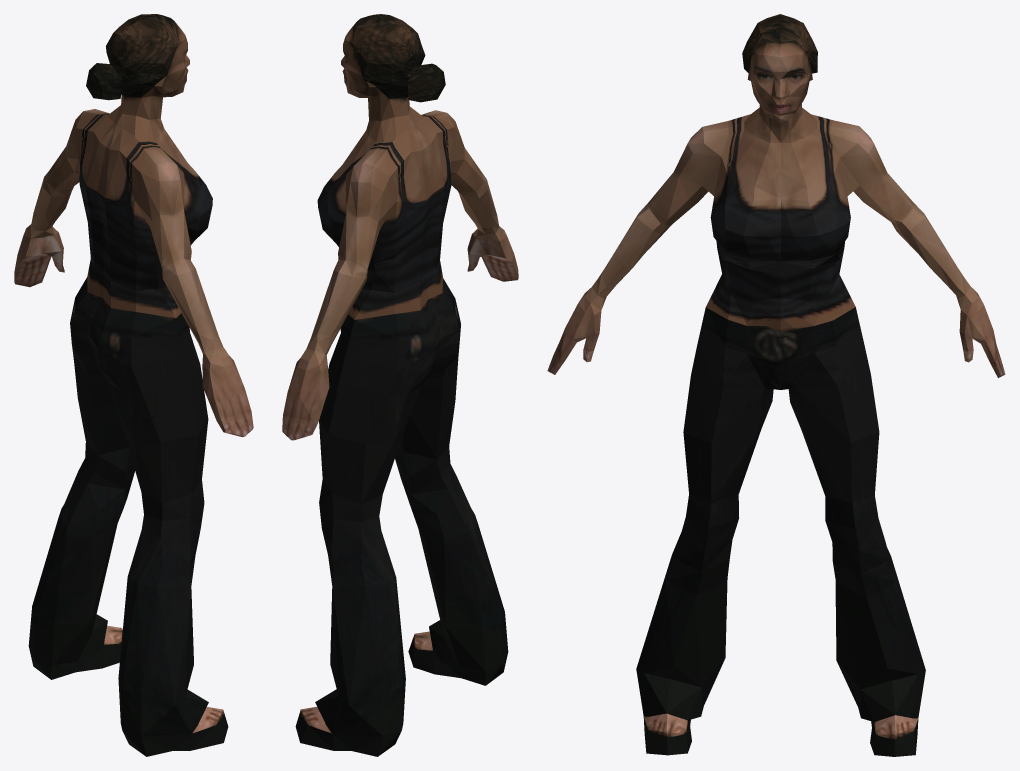
File: cat.obj
3 renders of one model, left to right at view 1: azimuth 30°, elevation 25°; view 2: azimuth 150°, elevation 25°; view 3: azimuth 270°, elevation 25°, orthographic. The views are drawn at different scales.
Visible parts, largest first — view 1: _Pelvis; view 2: _Pelvis; view 3: _Pelvis.
Boxes of the visible parts, box(x1,y1,x2,y2) form: _Pelvis: box(14, 14, 253, 756); _Pelvis: box(282, 14, 518, 756); _Pelvis: box(547, 14, 1005, 756).
Bounding box in the file's own units: 0.3292 × 1.77 × 1.01.
1 material, 1 textured.
